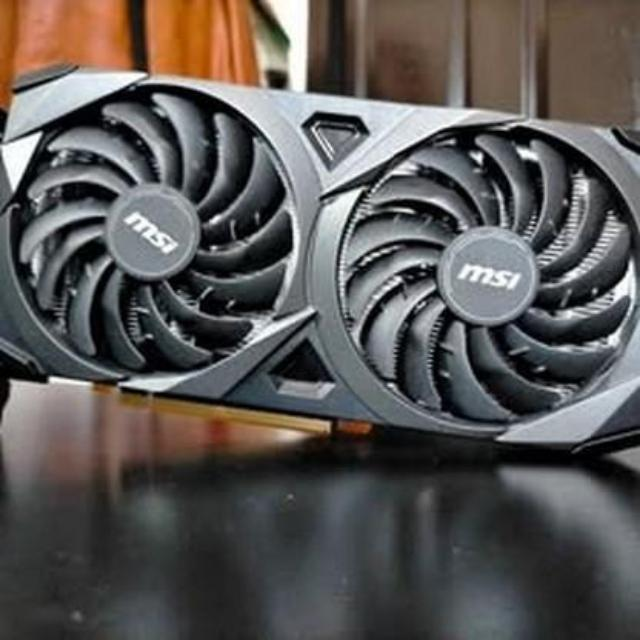GPU: (0, 67, 640, 458)
